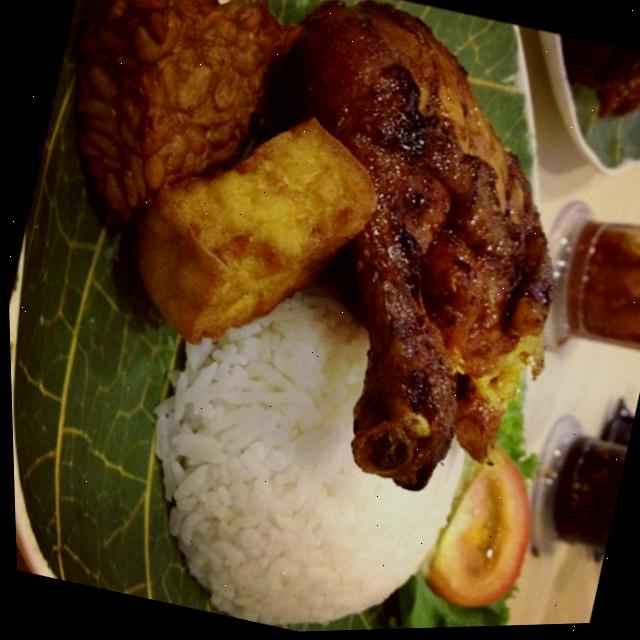鸡肉料理 含炸鸡: (23, 0, 640, 610)
